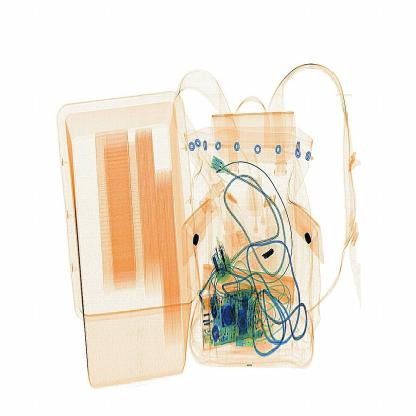wrench: (257, 247, 280, 266)
